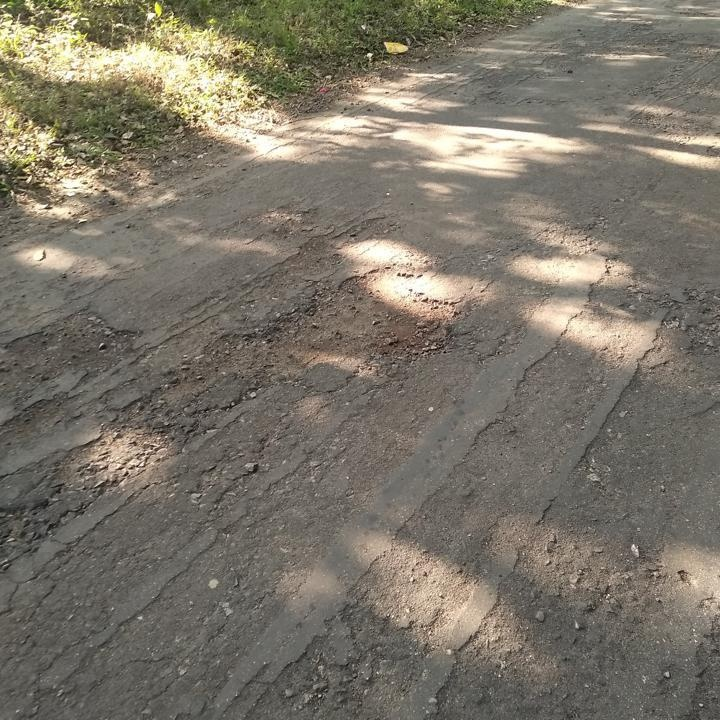pothole: (249, 264, 456, 382), (0, 307, 142, 385)
